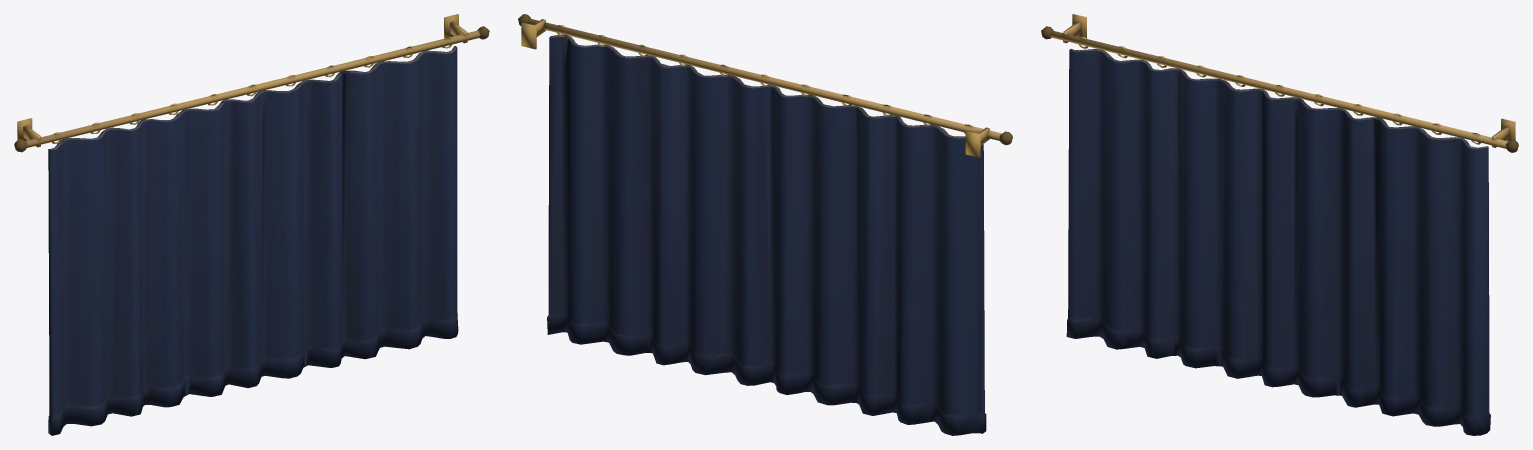
The model's file is curtain_cafe_navy-low.glb.
The picture shows the model from 3 angles, left to right: view 1: azimuth 30°, elevation 25°; view 2: azimuth 150°, elevation 25°; view 3: azimuth 330°, elevation 25°; orthographic projection. The views are drawn at different scales.
Parts seen in each view (by area): view 1: curtain_cafe_navy-low; view 2: curtain_cafe_navy-low; view 3: curtain_cafe_navy-low.
Part boxes in pixels (<box>): curtain_cafe_navy-low: <box>14,14,489,435</box>; curtain_cafe_navy-low: <box>518,14,1012,435</box>; curtain_cafe_navy-low: <box>1041,14,1518,435</box>.
Bounding box in the file's own units: 1.32 × 0.8101 × 0.1004.
Materials: 1 (1 with a texture image).
